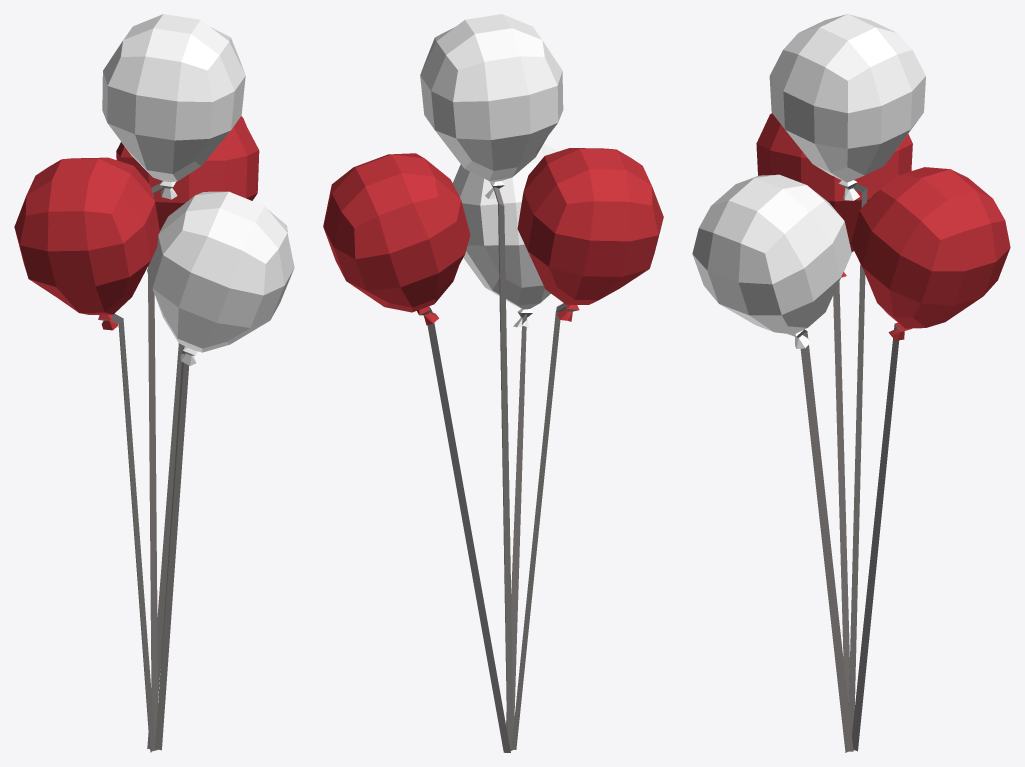
Rendered from props_balloons-bunch.fbx.
The picture shows the model from 3 angles, left to right: view 1: azimuth 30°, elevation 25°; view 2: azimuth 150°, elevation 25°; view 3: azimuth 270°, elevation 25°; orthographic projection.
Visible parts, largest first — view 1: props_balloons_bunch; view 2: props_balloons_bunch; view 3: props_balloons_bunch.
Boxes of the visible parts, x1,y1,x2,y2 form: props_balloons_bunch: (14,14,294,752); props_balloons_bunch: (323,14,663,752); props_balloons_bunch: (692,14,1010,752).
Bounding box in the file's own units: 81.83 × 200 × 78.26.
